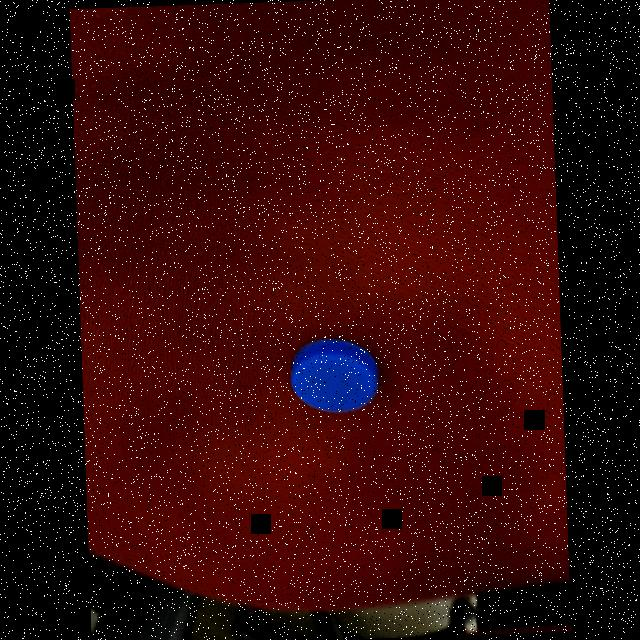plastic_bottle_cap: (281, 332, 385, 425)
